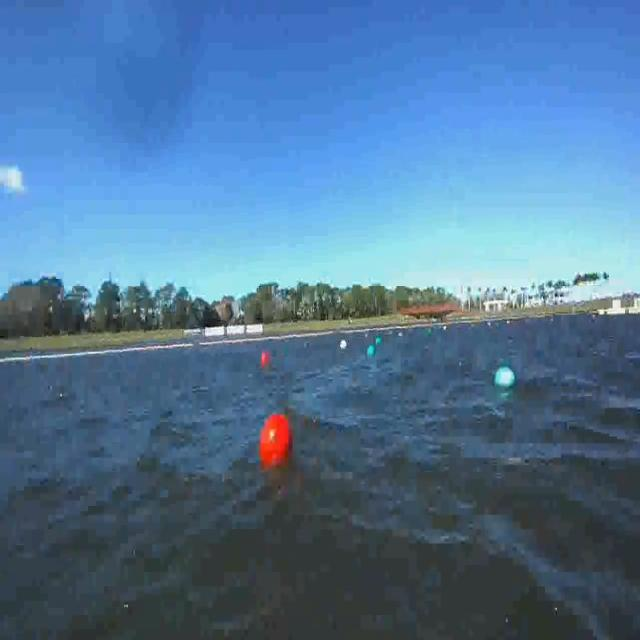green-buoy: (494, 367, 516, 392), (366, 345, 375, 357)
red-buoy: (259, 412, 296, 472), (260, 347, 272, 369)
yellow-buoy: (337, 337, 348, 350)
